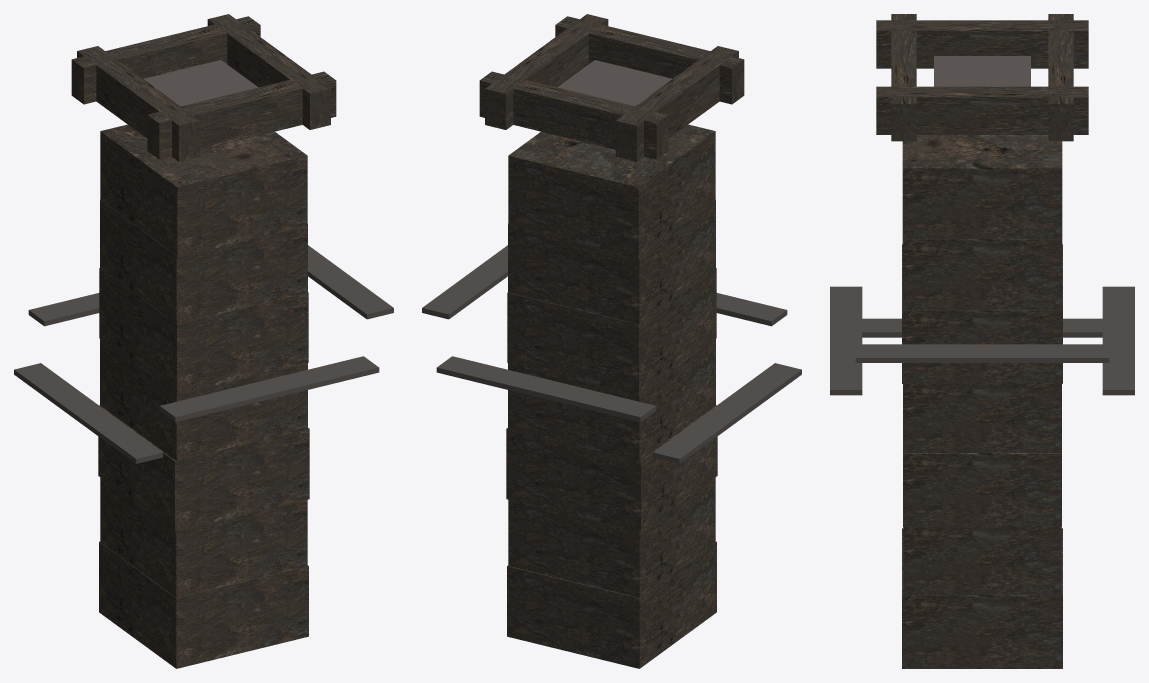
The model's file is blacksmith_chimney_candidate_preview.glb.
3 renders of one model, left to right at view 1: azimuth 30°, elevation 25°; view 2: azimuth 150°, elevation 25°; view 3: azimuth 270°, elevation 25°, orthographic. The views are drawn at different scales.
Parts seen in each view (by area): view 1: GENESIS_BATCH_Blacksmith chimney · soot-blackened masonr, GENESIS_BATCH_Blacksmith chimney · oxidized quarrystone, GENESIS_BATCH_Oxidized forged iron, GENESIS_BATCH_Recessed stone mortar / dark; view 2: GENESIS_BATCH_Blacksmith chimney · soot-blackened masonr, GENESIS_BATCH_Blacksmith chimney · oxidized quarrystone, GENESIS_BATCH_Oxidized forged iron, GENESIS_BATCH_Recessed stone mortar / dark; view 3: GENESIS_BATCH_Blacksmith chimney · soot-blackened masonr, GENESIS_BATCH_Blacksmith chimney · oxidized quarrystone, GENESIS_BATCH_Oxidized forged iron, GENESIS_BATCH_Recessed stone mortar / dark.
Boxes of the visible parts, box(x1,y1,x2,y2) form: GENESIS_BATCH_Blacksmith chimney · soot-blackened masonr: box(71, 14, 336, 597); GENESIS_BATCH_Blacksmith chimney · oxidized quarrystone: box(99, 124, 308, 668); GENESIS_BATCH_Oxidized forged iron: box(14, 245, 393, 463); GENESIS_BATCH_Recessed stone mortar / dark: box(144, 60, 258, 106); GENESIS_BATCH_Blacksmith chimney · soot-blackened masonr: box(479, 14, 744, 597); GENESIS_BATCH_Blacksmith chimney · oxidized quarrystone: box(507, 124, 716, 668); GENESIS_BATCH_Oxidized forged iron: box(422, 245, 801, 463); GENESIS_BATCH_Recessed stone mortar / dark: box(557, 60, 671, 106); GENESIS_BATCH_Blacksmith chimney · soot-blackened masonr: box(876, 14, 1088, 595); GENESIS_BATCH_Blacksmith chimney · oxidized quarrystone: box(902, 135, 1062, 668); GENESIS_BATCH_Oxidized forged iron: box(830, 286, 1134, 395); GENESIS_BATCH_Recessed stone mortar / dark: box(934, 56, 1030, 86).
Size of the model in its own units: 1.34 by 2.76 by 1.32.
4 materials, 2 textured.
